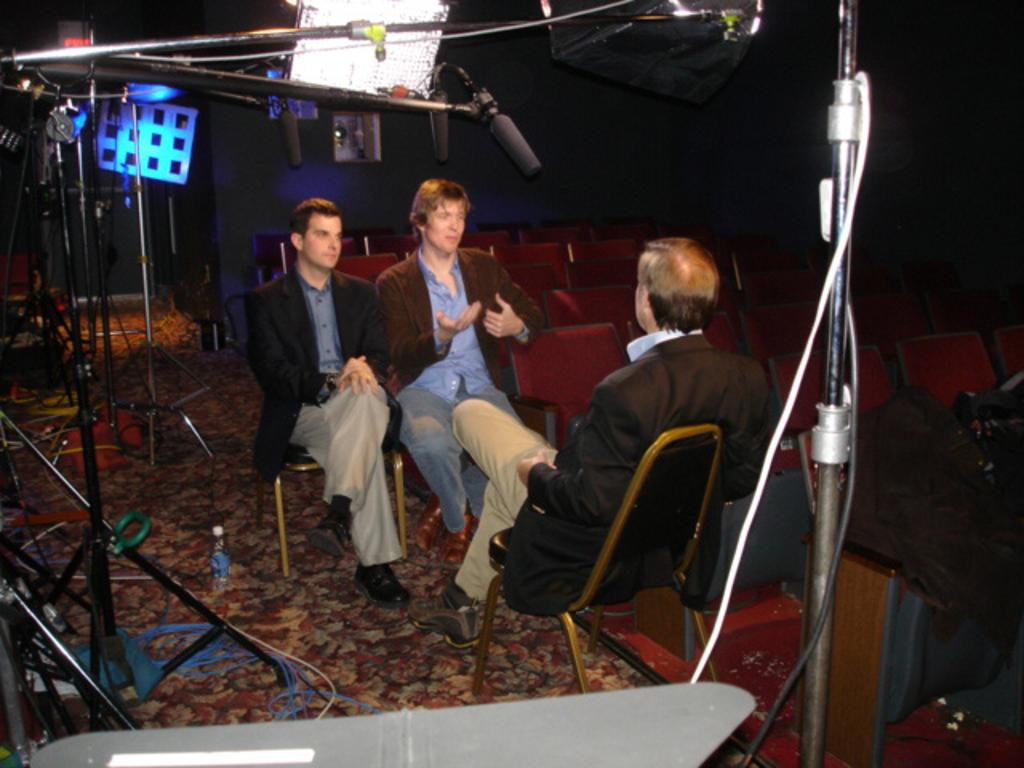face: (304, 212, 342, 267), (427, 199, 465, 253)
